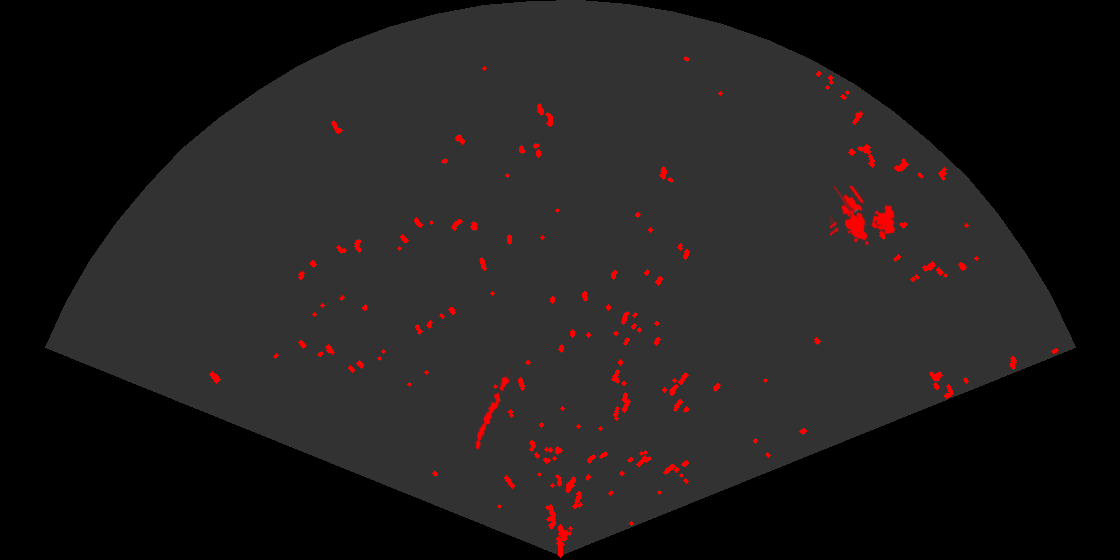AUV: (840, 193, 868, 228)
cage: (830, 186, 897, 247)
chain: (474, 368, 513, 452)
